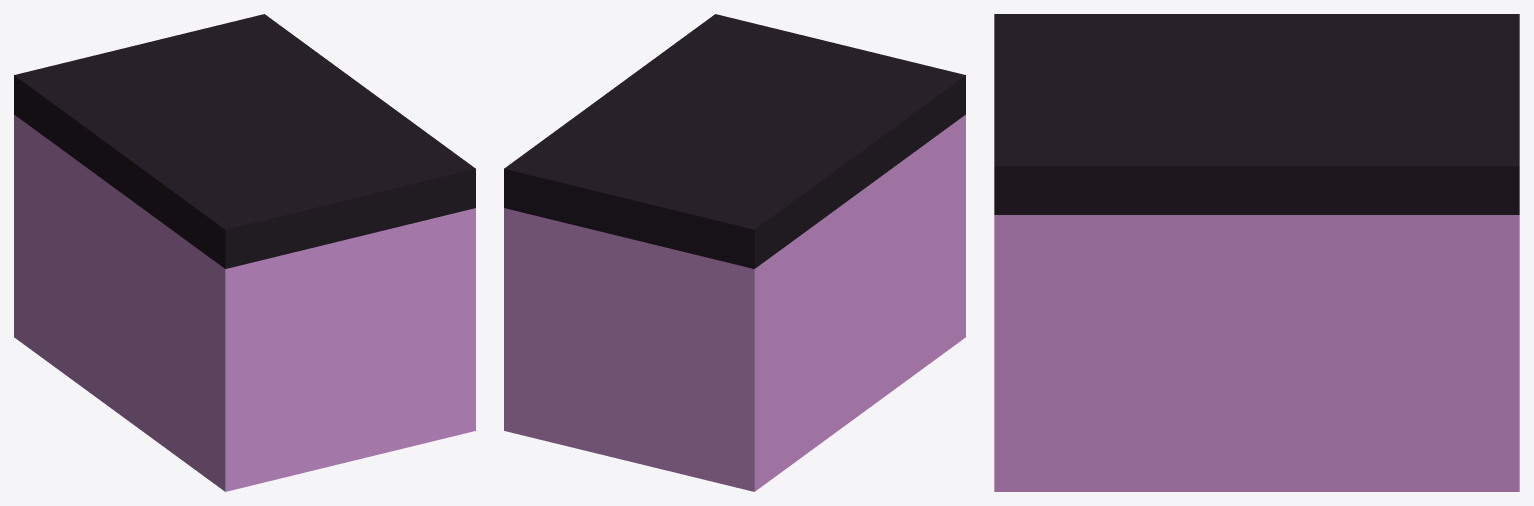
Rendered from Counter_top_2.fbx.
The picture shows the model from 3 angles, left to right: view 1: azimuth 30°, elevation 25°; view 2: azimuth 150°, elevation 25°; view 3: azimuth 270°, elevation 25°; orthographic projection. The views are drawn at different scales.
Parts seen in each view (by area): view 1: Counter top 2; view 2: Counter top 2; view 3: Counter top 2.
Boxes of the visible parts, x1,y1,x2,y2 form: Counter top 2: (14, 14, 475, 491); Counter top 2: (504, 14, 965, 491); Counter top 2: (994, 14, 1519, 491).
Size of the model in its own units: 206 by 206 by 301.
